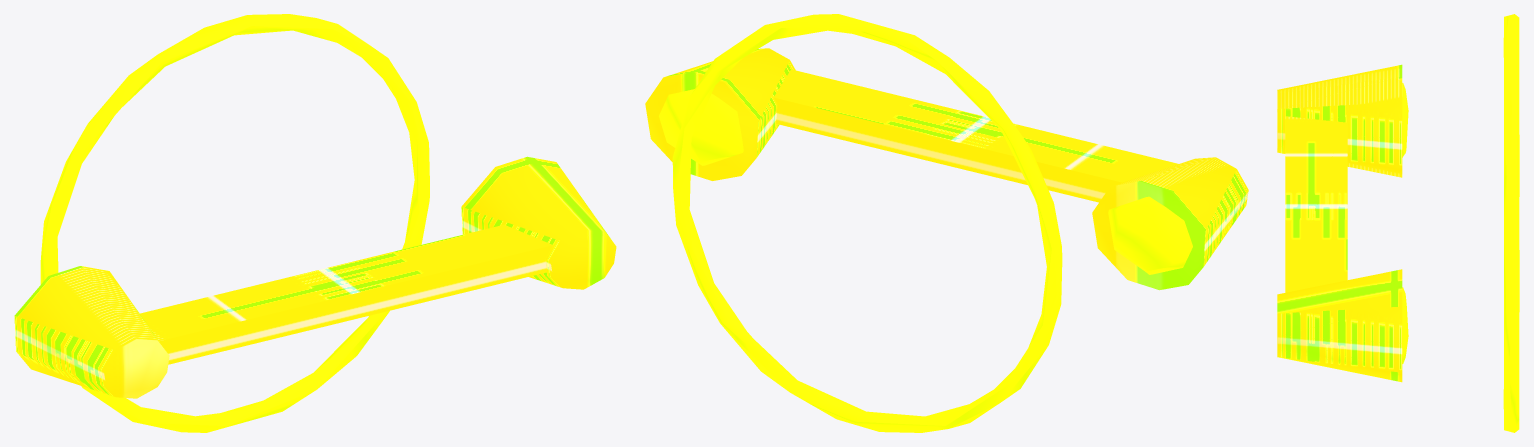
File: ENGINE.glb
3 views of the same model, side by side, from view 1: azimuth 30°, elevation 25°; view 2: azimuth 150°, elevation 25°; view 3: azimuth 270°, elevation 25° (orthographic). The views are drawn at different scales.
Parts seen in each view (by area): view 1: ENGINE_01_LITE; view 2: ENGINE_01_LITE; view 3: ENGINE_01_LITE.
Boxes of the visible parts, x1,y1,x2,y2 form: ENGINE_01_LITE: (14,14,616,432); ENGINE_01_LITE: (645,14,1248,432); ENGINE_01_LITE: (1277,14,1519,432).
Bounding box in the file's own units: 3.88 × 2.7 × 1.55.
2 materials, 1 textured.
